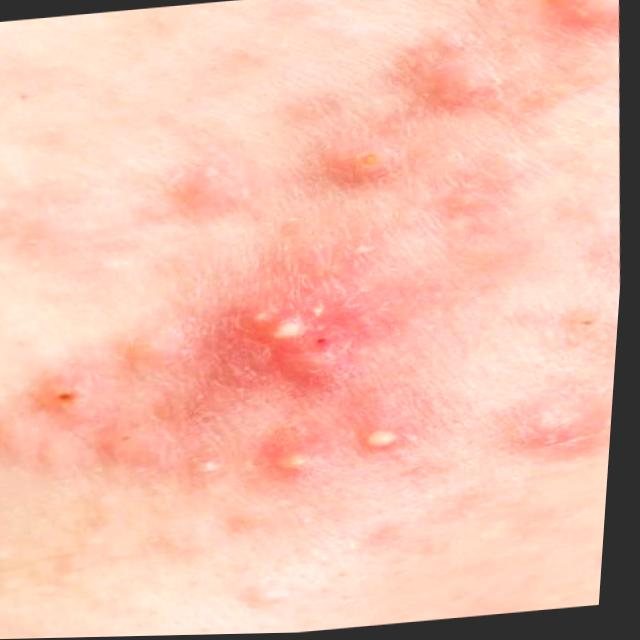papule: (399, 51, 528, 119), (504, 391, 618, 460), (158, 163, 268, 224), (98, 322, 206, 383), (95, 412, 203, 467), (0, 417, 81, 472), (32, 376, 116, 418), (537, 0, 619, 38)
pustule: (217, 297, 357, 362), (335, 415, 431, 467), (262, 444, 329, 485), (337, 142, 404, 181), (183, 450, 236, 482)
